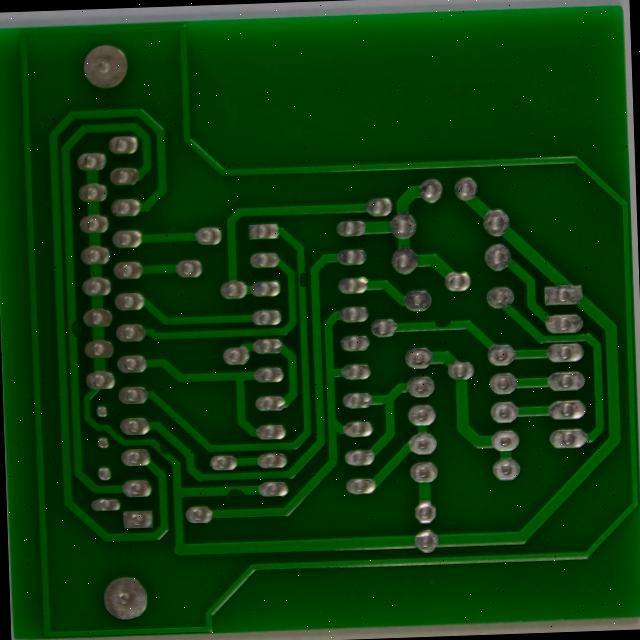mouse_bite: (25, 291, 47, 322), (118, 425, 143, 451), (416, 293, 441, 316), (193, 472, 221, 492), (270, 244, 287, 267)
